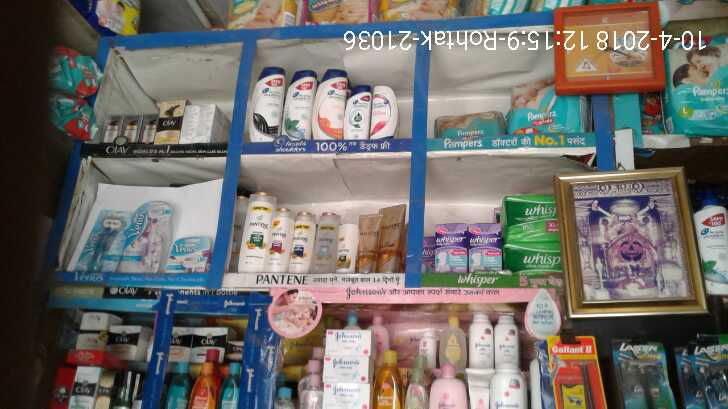gillete: (611, 342, 673, 409), (676, 335, 728, 406)
venus: (125, 199, 166, 272), (81, 208, 126, 272), (167, 234, 213, 272)
